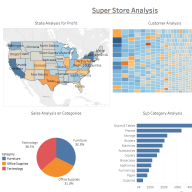

What the dashboard file says about the page in this screenshot:
{"tool":"tableau","page":{"name":"Dashboard 1","canvas":[1000,800],"ordinal":0},"visuals":[{"type":"text","box":[8,8,984,64]},{"type":"worksheet","title":"State Analysis for Profit","mark":"Automatic","box":[8,72,434,360]},{"type":"worksheet","title":"Customer Analysis","mark":"Automatic","box":[442,72,434,360]},{"type":"legend","title":"State Analysis for Profit","param":"[federated.0vn90mb0pusnq61cdpyiq1mtcl7p].[sum:Profit:qk]","box":[876,72,116,65]},{"type":"legend","title":"Categories","param":"[federated.0vn90mb0pusnq61cdpyiq1mtcl7p].[sum:Sales:qk]","box":[876,137,116,46]},{"type":"worksheet","title":"Categories","mark":"Pie","box":[8,432,434,360]},{"type":"worksheet","title":"Sub Category Analysis","mark":"Automatic","cols":["Sales"],"box":[442,432,434,360]},{"type":"legend","title":"Categories","param":"[federated.0vn90mb0pusnq61cdpyiq1mtcl7p].[none:Category:nk]","box":[6,606,119,78]}]}

Visuals, with their boxes on the page's 1000x800 design canvas (x1, y1, x2, y2). These are canvas units, not pixel positions in the 192x192 screenshot, which may show the page scaled, cropped or inside an application window:
text: pyautogui.locateOnScreen(8, 8, 992, 72)
"State Analysis for Profit" worksheet: pyautogui.locateOnScreen(8, 72, 442, 432)
"Customer Analysis" worksheet: pyautogui.locateOnScreen(442, 72, 876, 432)
"State Analysis for Profit" legend: pyautogui.locateOnScreen(876, 72, 992, 137)
"Categories" legend: pyautogui.locateOnScreen(876, 137, 992, 183)
"Categories" worksheet (Pie marks): pyautogui.locateOnScreen(8, 432, 442, 792)
"Sub Category Analysis" worksheet: pyautogui.locateOnScreen(442, 432, 876, 792)
"Categories" legend: pyautogui.locateOnScreen(6, 606, 125, 684)
